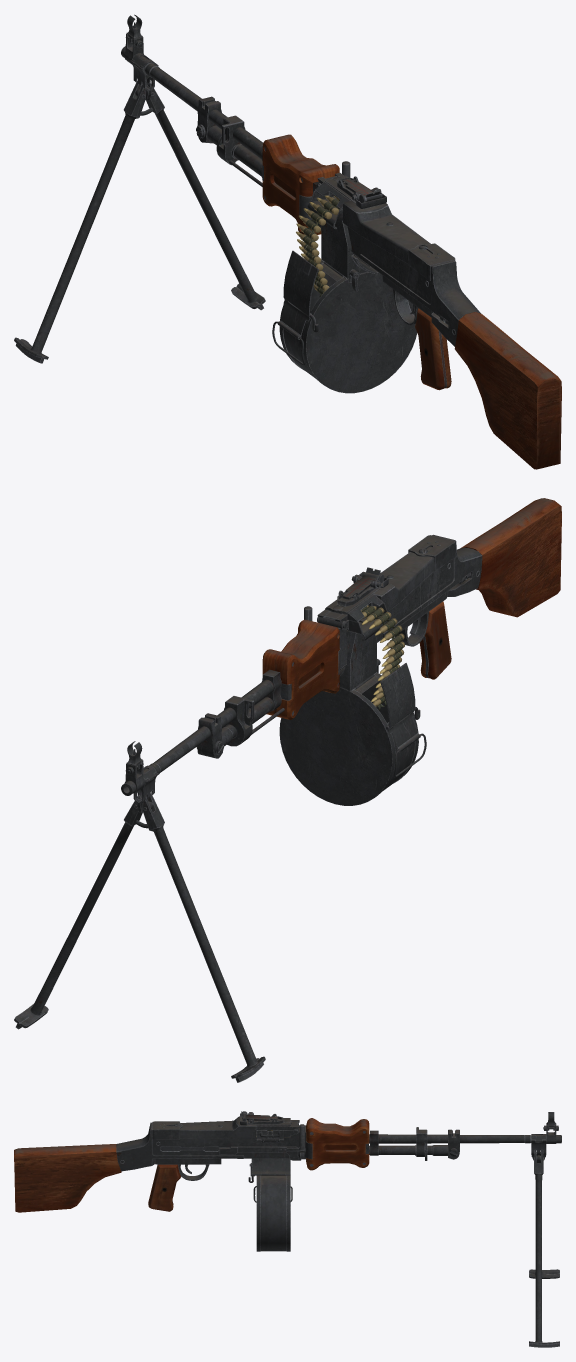
File: rpd.glb
3 renders of one model, top to bottom at view 1: azimuth 30°, elevation 25°; view 2: azimuth 150°, elevation 25°; view 3: azimuth 270°, elevation 25°, orthographic. The views are drawn at different scales.
Visible parts, largest first — view 1: rpd_body, box, cover; view 2: rpd_body, box, cover; view 3: rpd_body, box, cover.
Part boxes in pixels (x1,y1,x2,y2): rpd_body: (14,14,561,469); box: (272,195,417,393); cover: (314,173,386,209); rpd_body: (14,498,561,1082); box: (279,605,426,805); cover: (317,567,388,622); rpd_body: (14,1112,561,1347); box: (248,1130,292,1251); cover: (240,1111,299,1132).
Size of the model in its own units: 0.3281 by 0.4183 by 1.04.
1 material, 1 textured.
